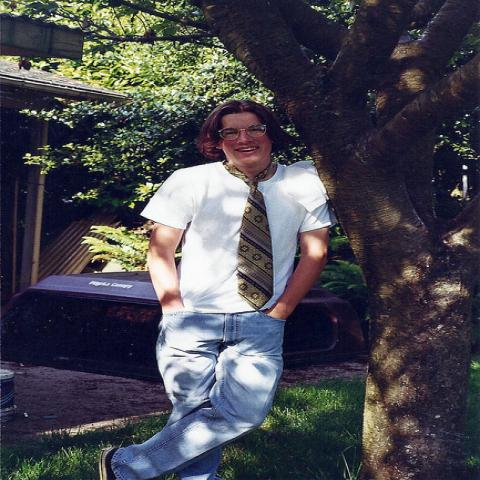car: (0, 269, 368, 385)
